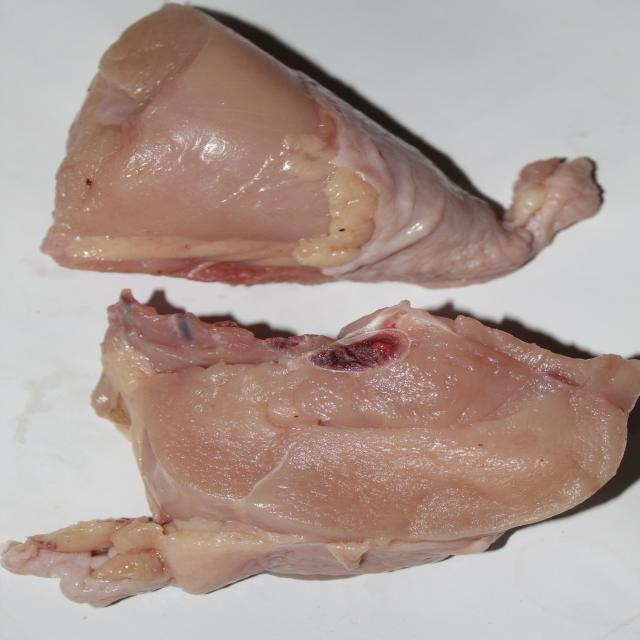chicken: (0, 302, 640, 604), (39, 6, 603, 286)
